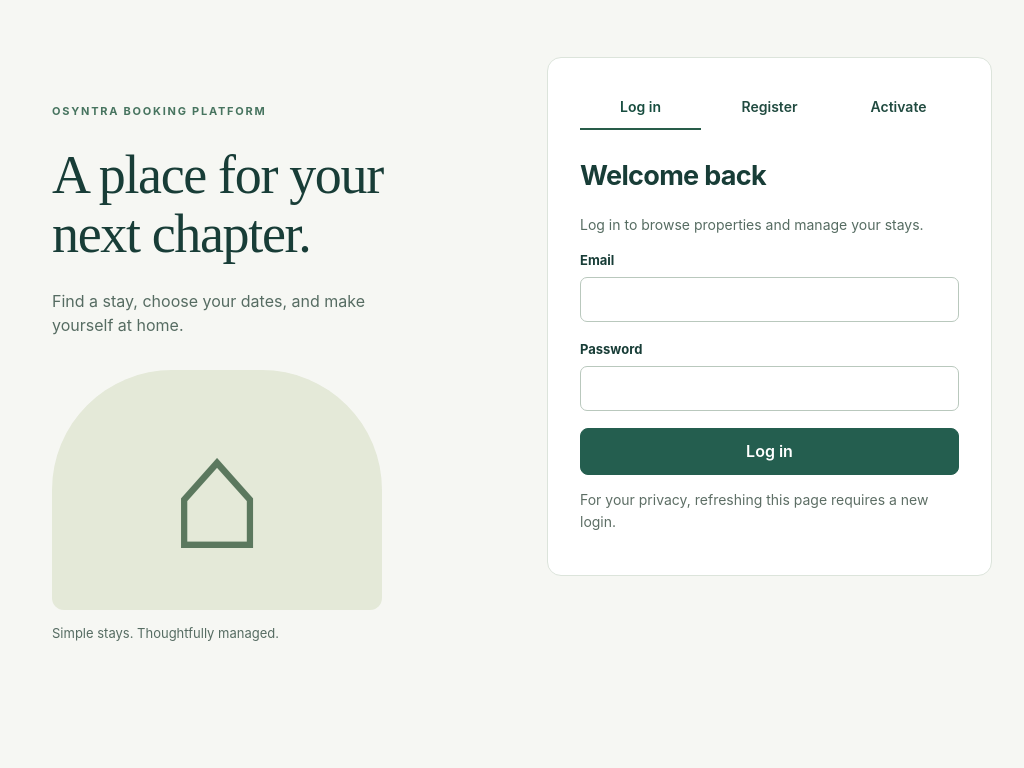
Test case: selects owner navigation, displays empty state, and clears private views on logout
Type "a@example.com" into the field labelled "Email" at (770, 300), box [580,277,959,322]
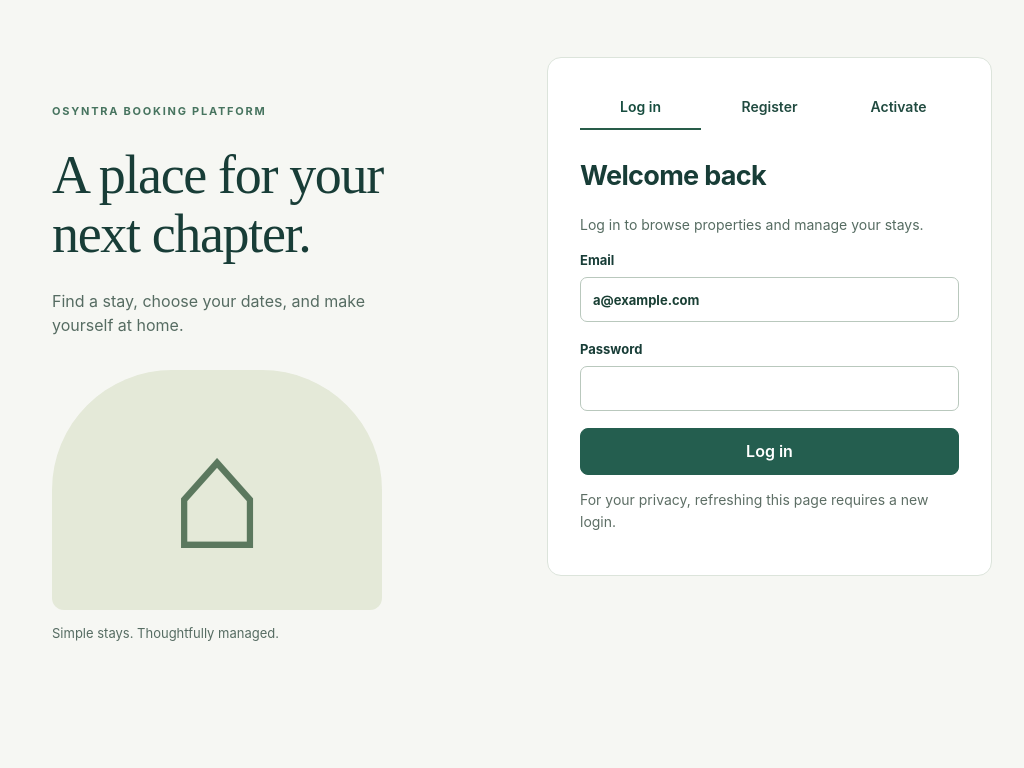
Type "ExamplePass1!" into the password field labelled "Password" at (770, 389), box [580,366,959,412]
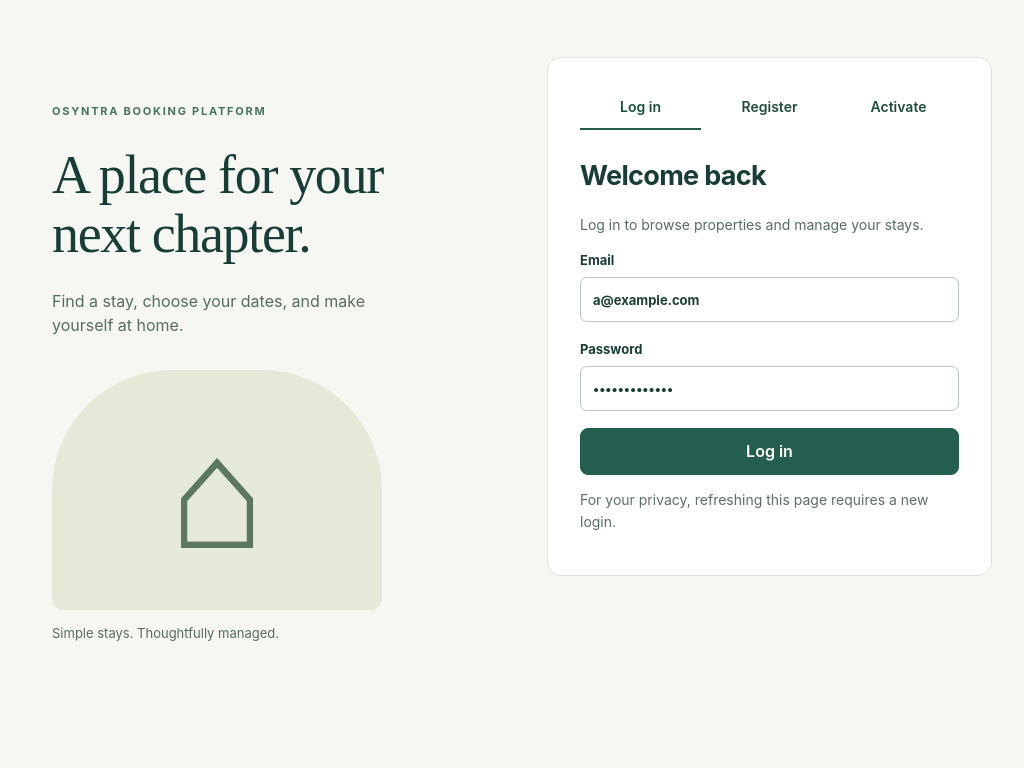
Click the button "Log in" below "Password" at (770, 452), box [580,428,959,475]
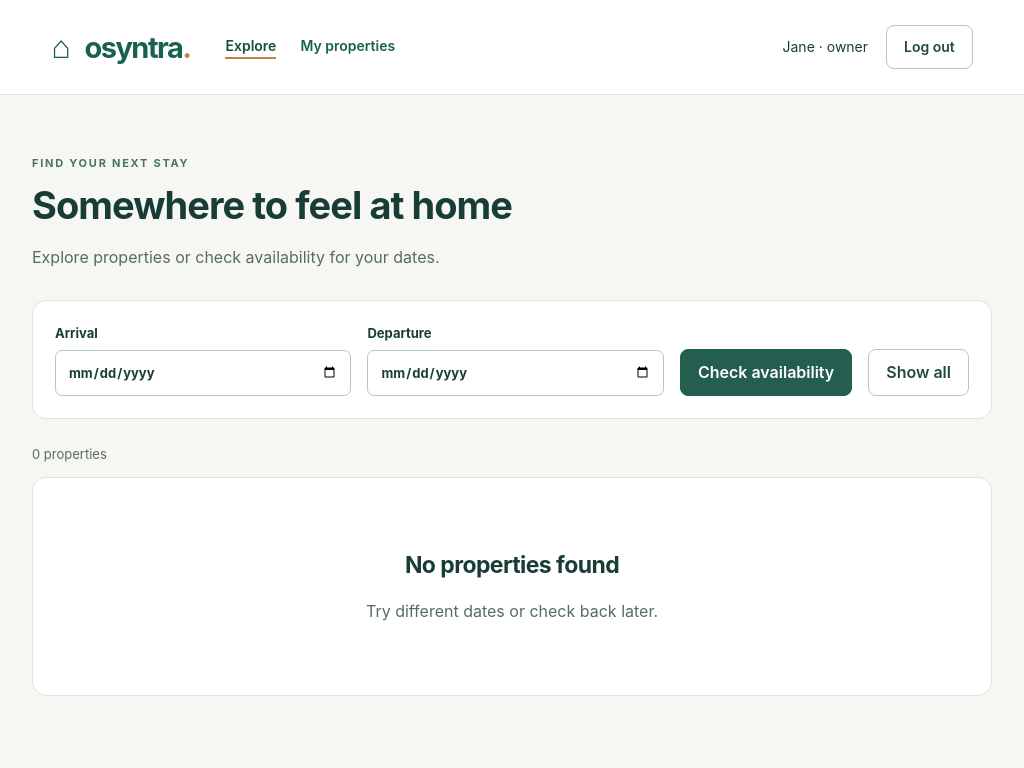
Now the link "My properties" is shown, box [300,35,395,59]
Now the heading "No properties found" is shown, box [405,551,619,579]
Click the button "Log out" at (929, 47), box [886,25,973,69]
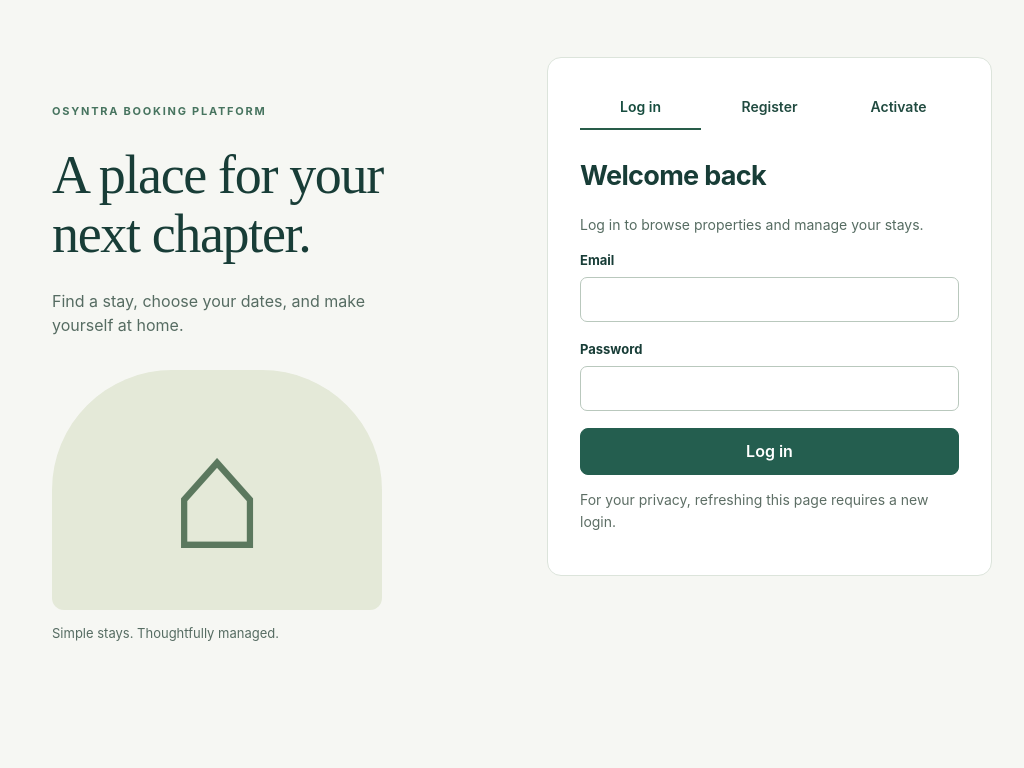
Now the link "My properties" is gone
